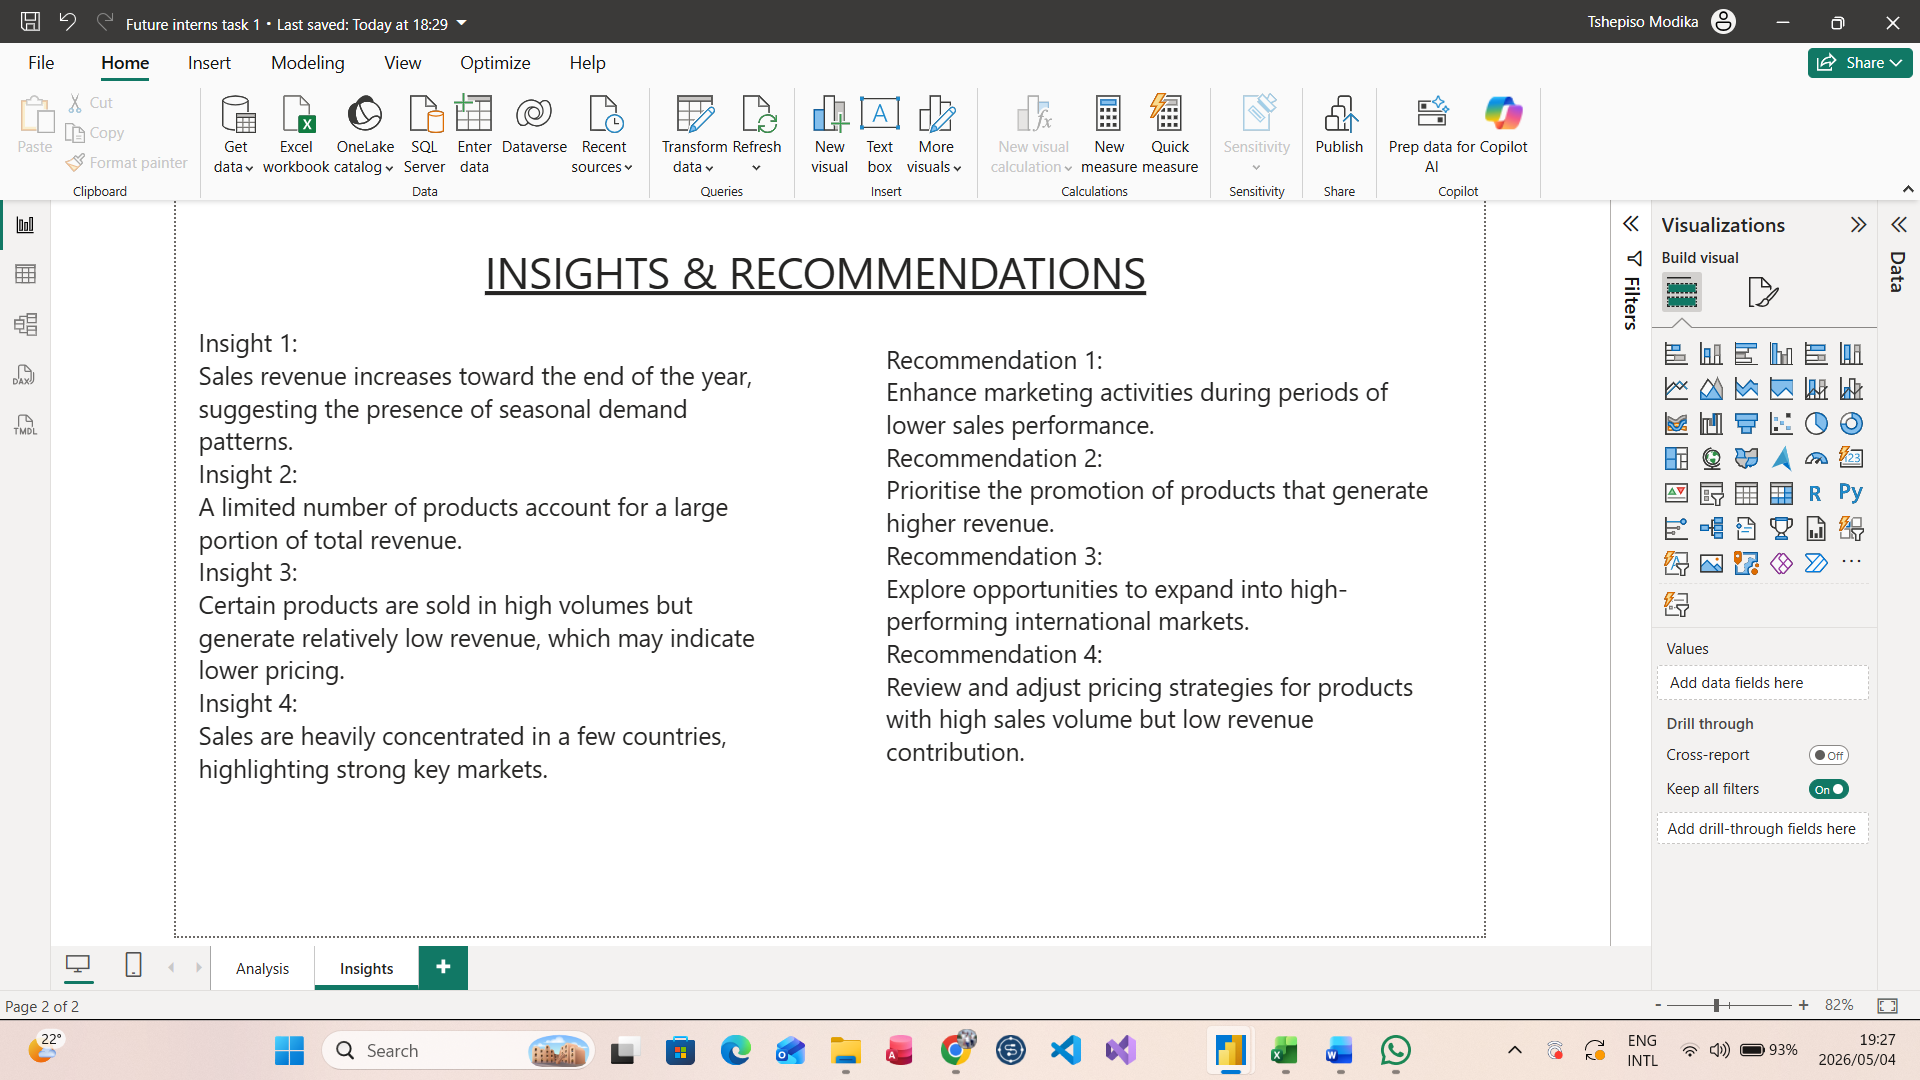

What the dashboard file says about the page in this screenshot:
{"tool":"powerbi","page":{"name":"Insights","canvas":[1280,720],"ordinal":1},"visuals":[{"type":"textbox","box":[17.1,118.6,561.3,495.2],"z":0},{"type":"textbox","box":[689.7,134.5,561.3,430.4],"z":1000},{"type":"textbox","box":[297.6,36,725.9,98.6],"z":2000}]}

Visuals, with their boxes on the page's 1280x720 design canvas (x1, y1, x2, y2). These are canvas units, not pixel positions in the 1920x1080 screenshot, which may show the page scaled, cropped or inside an application window:
textbox: [x1=17, y1=119, x2=578, y2=614]
textbox: [x1=690, y1=134, x2=1251, y2=565]
textbox: [x1=298, y1=36, x2=1024, y2=135]
